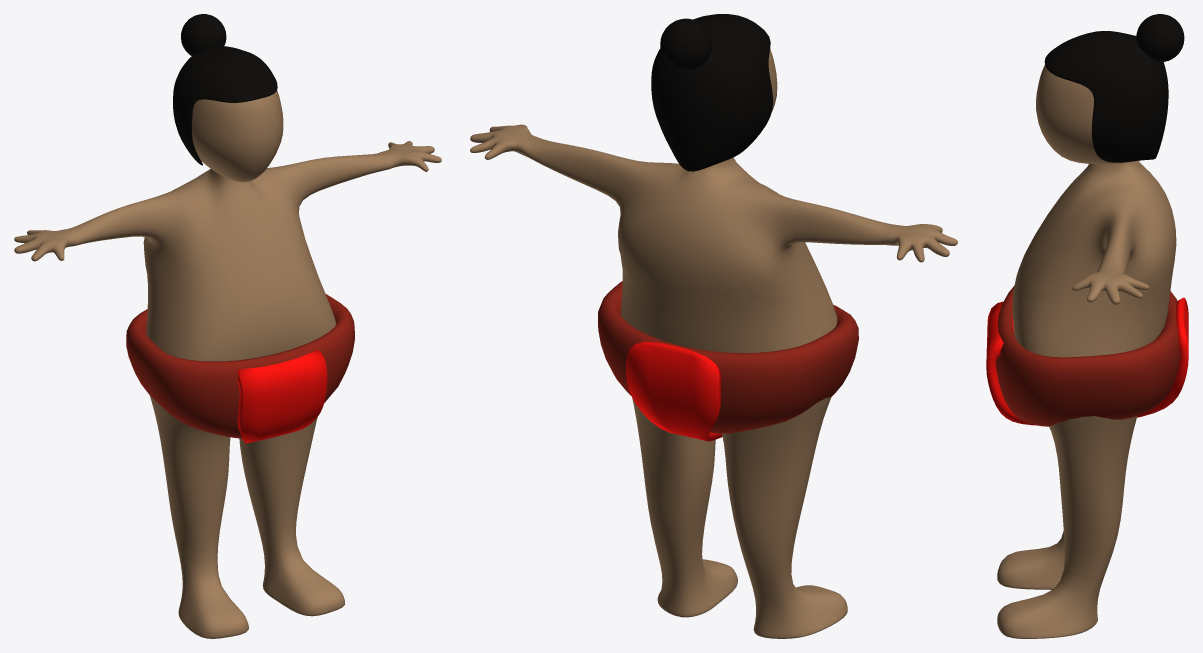
The model's file is red sumo 4.fbx.
3 renders of one model, left to right at view 1: azimuth 30°, elevation 25°; view 2: azimuth 150°, elevation 25°; view 3: azimuth 270°, elevation 25°, orthographic. The views are drawn at different scales.
Parts seen in each view (by area): view 1: Cube.019, Cube.018, Cube.020, Cube.017, Cube.016, Sphere.003; view 2: Cube.019, Cube.016, Cube.018, Cube.017, Sphere.003; view 3: Cube.019, Cube.018, Cube.016, Cube.020, Cube.017, Sphere.003.
Part boxes in pixels (x1,y1,x2,y2): Cube.019: [14, 141, 441, 638]; Cube.018: [126, 294, 354, 438]; Cube.020: [192, 90, 283, 182]; Cube.017: [237, 349, 327, 443]; Cube.016: [173, 46, 277, 165]; Sphere.003: [181, 14, 226, 55]; Cube.019: [470, 124, 957, 638]; Cube.016: [651, 14, 773, 171]; Cube.018: [598, 281, 858, 433]; Cube.017: [626, 341, 722, 441]; Sphere.003: [660, 18, 712, 70]; Cube.019: [997, 161, 1176, 638]; Cube.018: [995, 285, 1179, 426]; Cube.016: [1044, 31, 1168, 162]; Cube.020: [1036, 65, 1133, 164]; Cube.017: [986, 297, 1188, 425]; Sphere.003: [1136, 14, 1184, 62].
Size of the model in its own units: 194 by 244 by 76.59.
